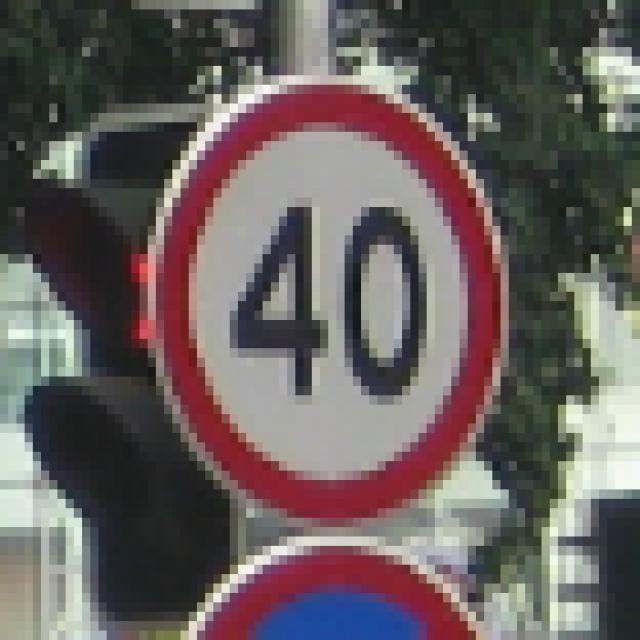Speed: (147, 74, 503, 532)
